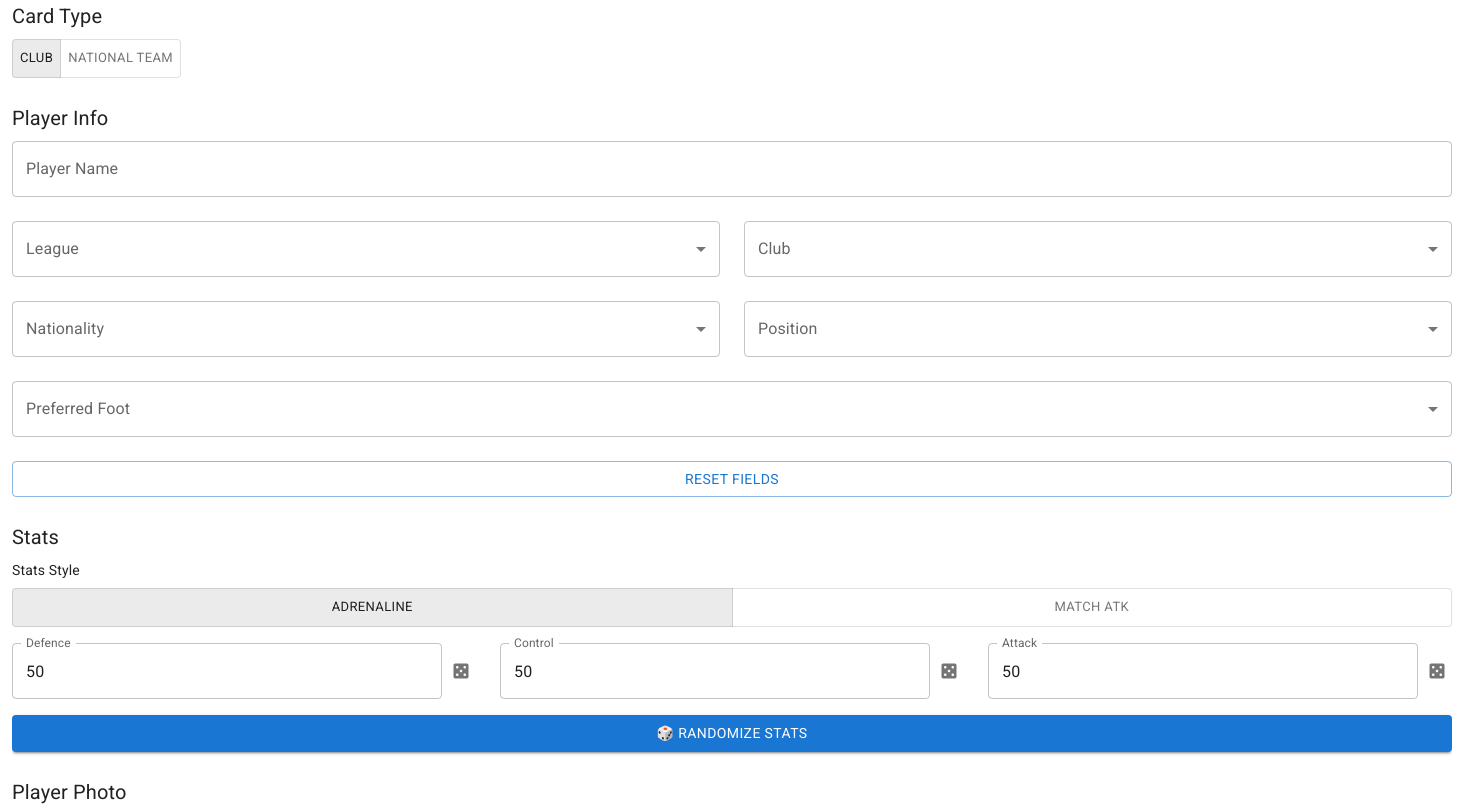
Scenario: Stats Style selector › switching back to Adrenaline shows Adrenaline inputs again
Click the button with aria-label "Match Atk style" at (1092, 608), box [732,588,1452,627]
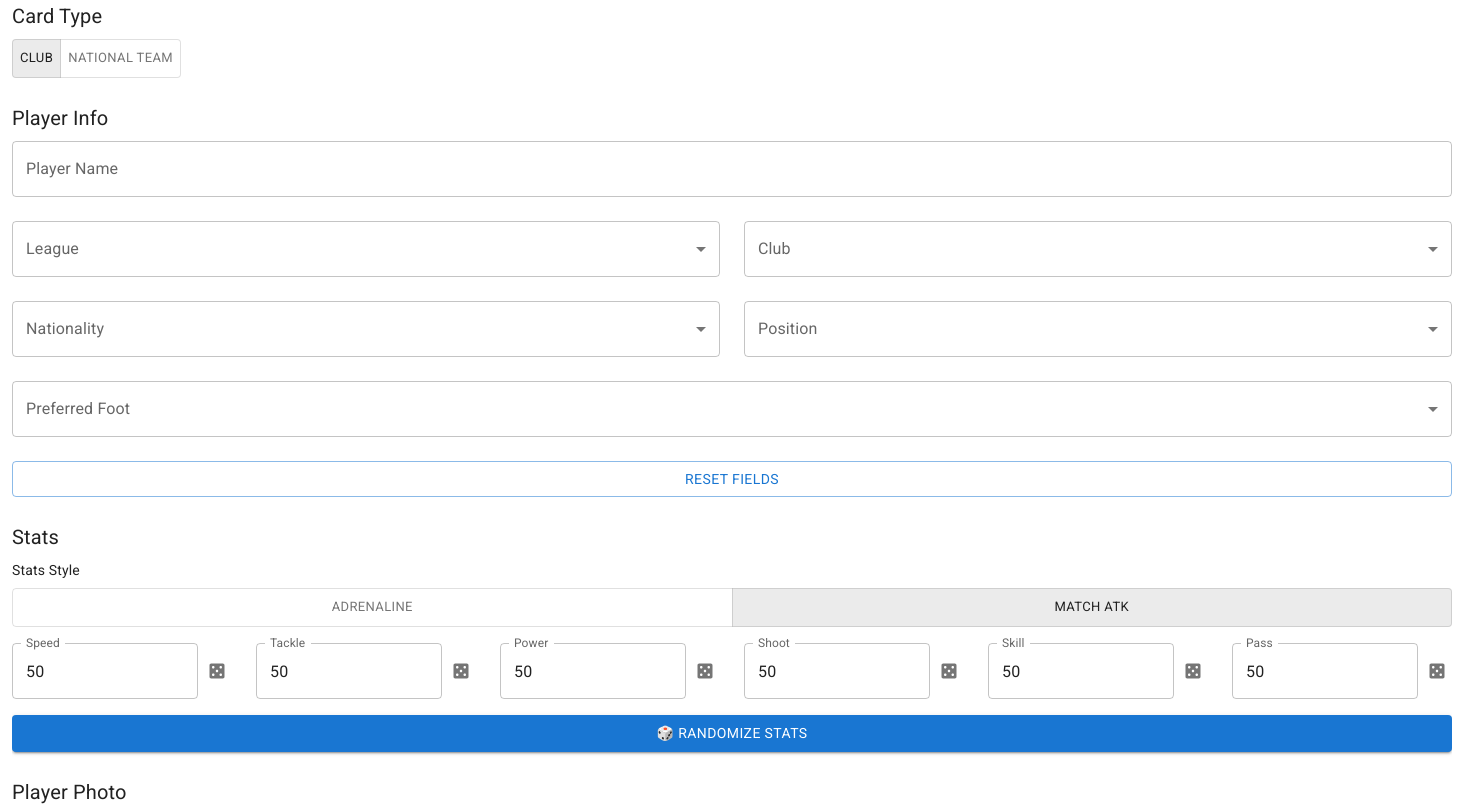
Expected: the number field with test id "speed-input" is shown, [12,643,198,699]
Click the button with aria-label "Adrenaline style" at (372, 608), box [12,588,732,627]
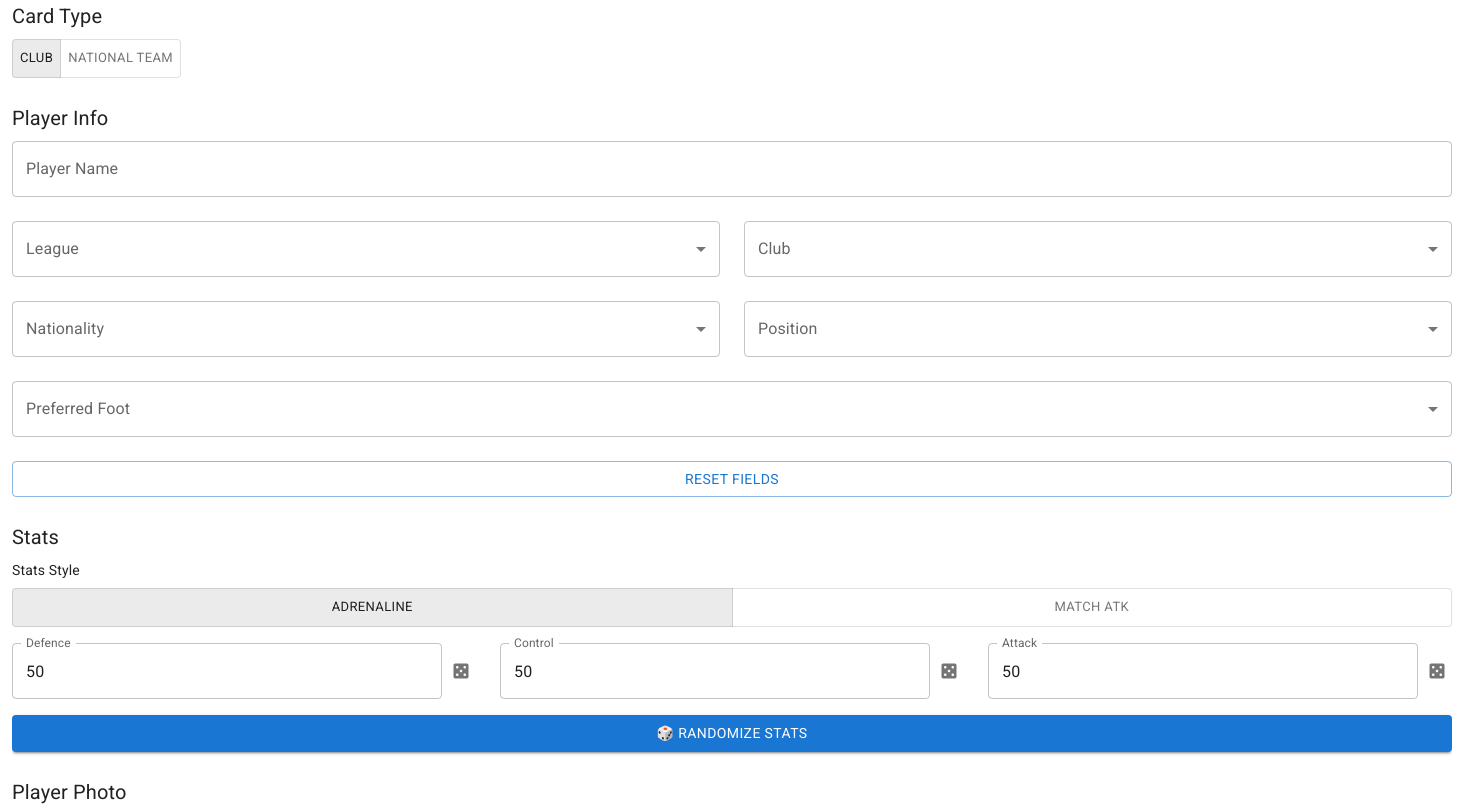
Expected: the number field with test id "defence-input" is shown, [12,643,442,699]
Expected: the number field with test id "speed-input" is gone
